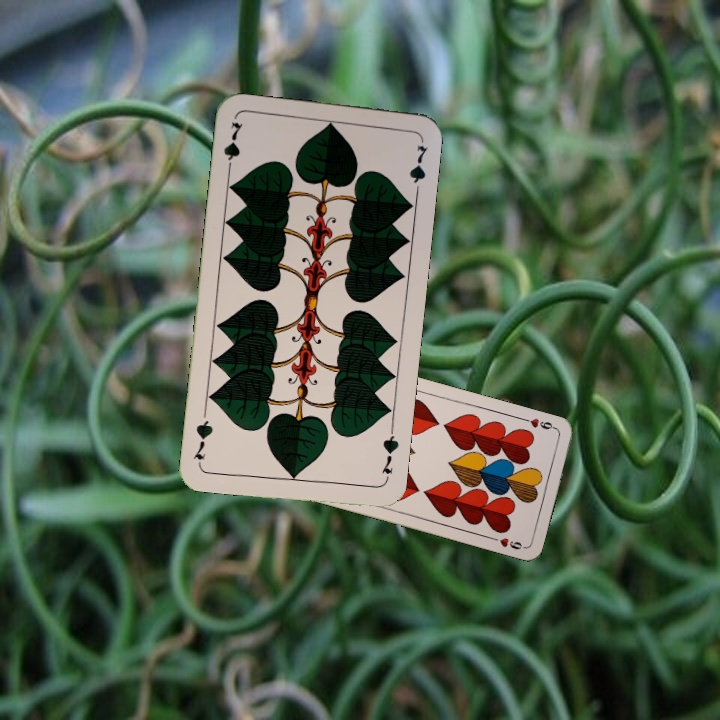G7: (219, 117, 246, 177), (377, 425, 402, 484)
H9: (519, 414, 559, 432)
